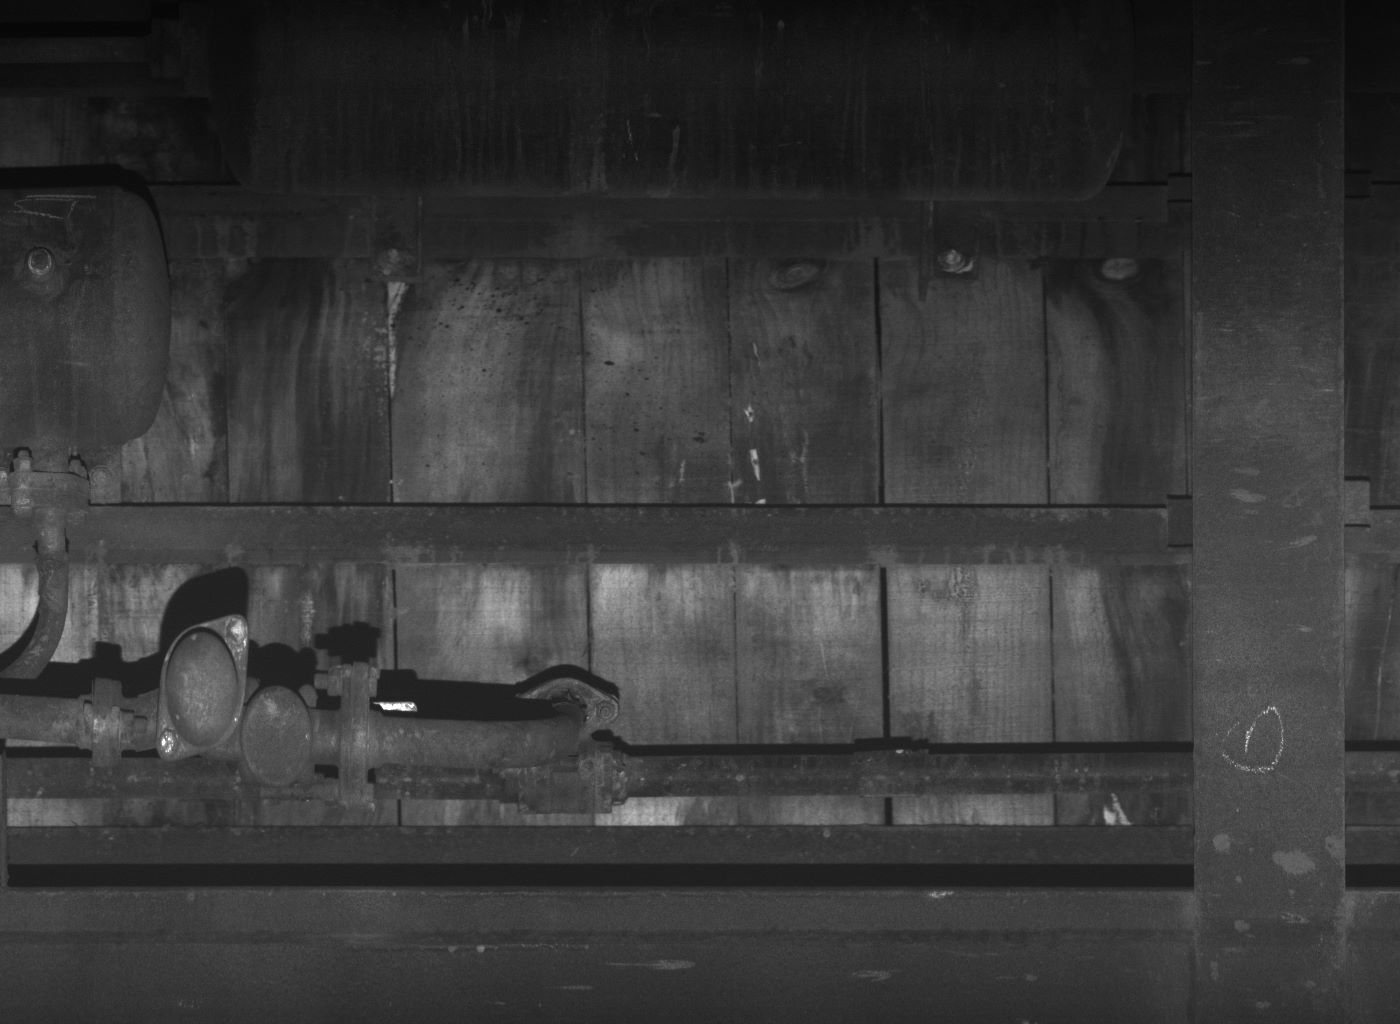normal: (236, 677, 318, 786)
